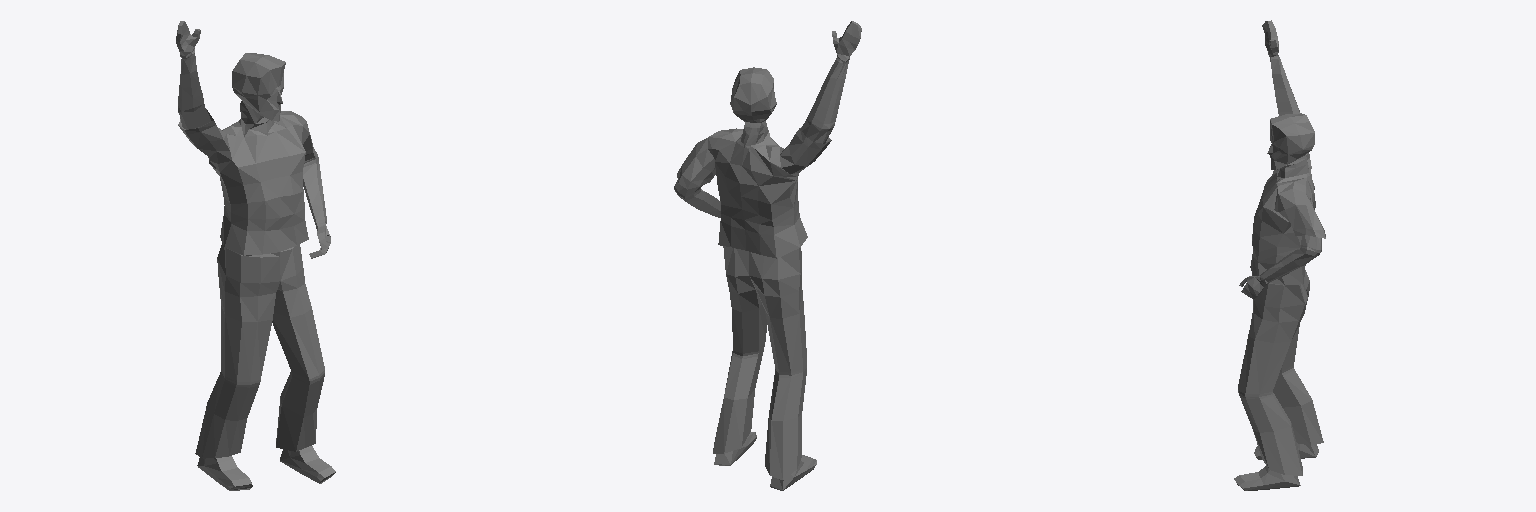
URDF robot description (mittal):
<robot name="mittal">
  <link name="mittal">
    <inertial>
      <origin rpy="0 0 0" xyz="0.4 0.2 0"/>
      <mass value="10"/>
      <inertia ixx="0" ixy="0" ixz="0" iyy="0" iyz="0" izz="0"/>
    </inertial>
    <visual>
      <origin rpy="0 0 0" xyz="0 0 0"/>
      <geometry>
        <mesh filename="package://varun_gazebo/models/mittal/meshes/mittal.dae"/>
      </geometry>
    </visual>
    <collision>
      <origin rpy="0 0 0" xyz="0 0 0"/>
      <geometry>
        <mesh filename="package://varun_gazebo/models/mittal/meshes/mittal.dae"/>
      </geometry>
    </collision>
  </link>
</robot>

--- Facts derived from the render (not from the file) ---
3 views of the same robot in one strip: view 1: azimuth 30°, elevation 25°; view 2: azimuth 150°, elevation 25°; view 3: azimuth 270°, elevation 25° (orthographic).
Robot: mittal — 1 links, 0 joints (none); root link mittal; default pose: all joints at 0.
Visible links, largest first — view 1: mittal; view 2: mittal; view 3: mittal.
Link boxes in pixels (x1,y1,x2,y2): mittal: (176, 21, 335, 490); mittal: (674, 21, 861, 490); mittal: (1234, 20, 1325, 490).
Size in the robot's own frame: 0.7547 by 0.4256 by 2.09 metres.
1 mesh visuals loaded from 1 distinct referenced files (1 Collada DAE).
